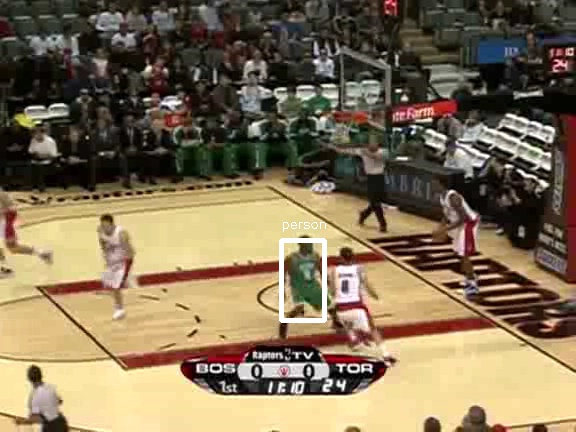person: (291, 244, 325, 325), (290, 244, 324, 325), (292, 244, 326, 325), (291, 243, 325, 324), (291, 245, 325, 326)
target_negative: (24, 57, 445, 267), (184, 170, 415, 395), (136, 160, 288, 394), (145, 272, 350, 369), (39, 244, 137, 343), (3, 8, 25, 298)
